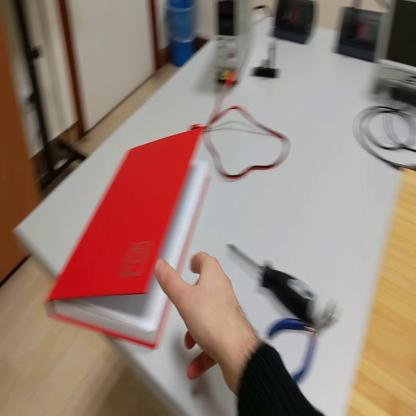hand: (157, 250, 246, 383)
oscilloscope: (379, 1, 416, 106)
pliers: (267, 305, 345, 384)
power supply: (213, 2, 255, 87)
register: (44, 127, 213, 348)
screwdriver-: (229, 240, 318, 322)
socket: (337, 7, 378, 63), (274, 1, 318, 45)
working area: (348, 167, 416, 415)
